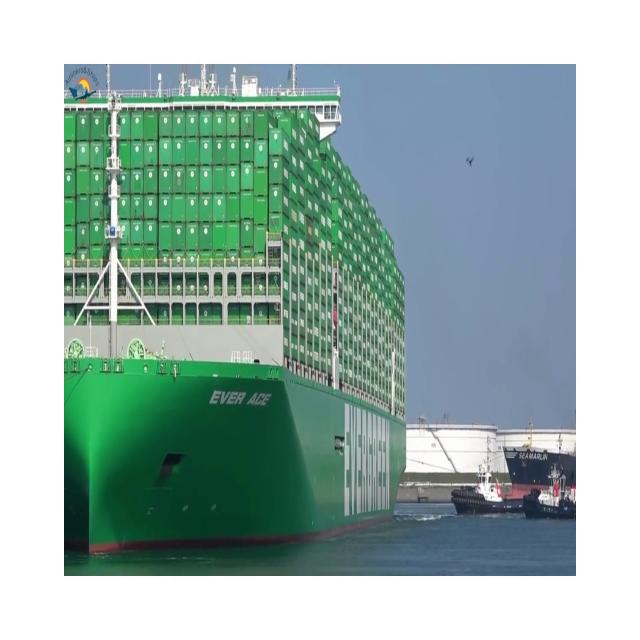OCR: (336, 382, 396, 522), (202, 372, 280, 419)
